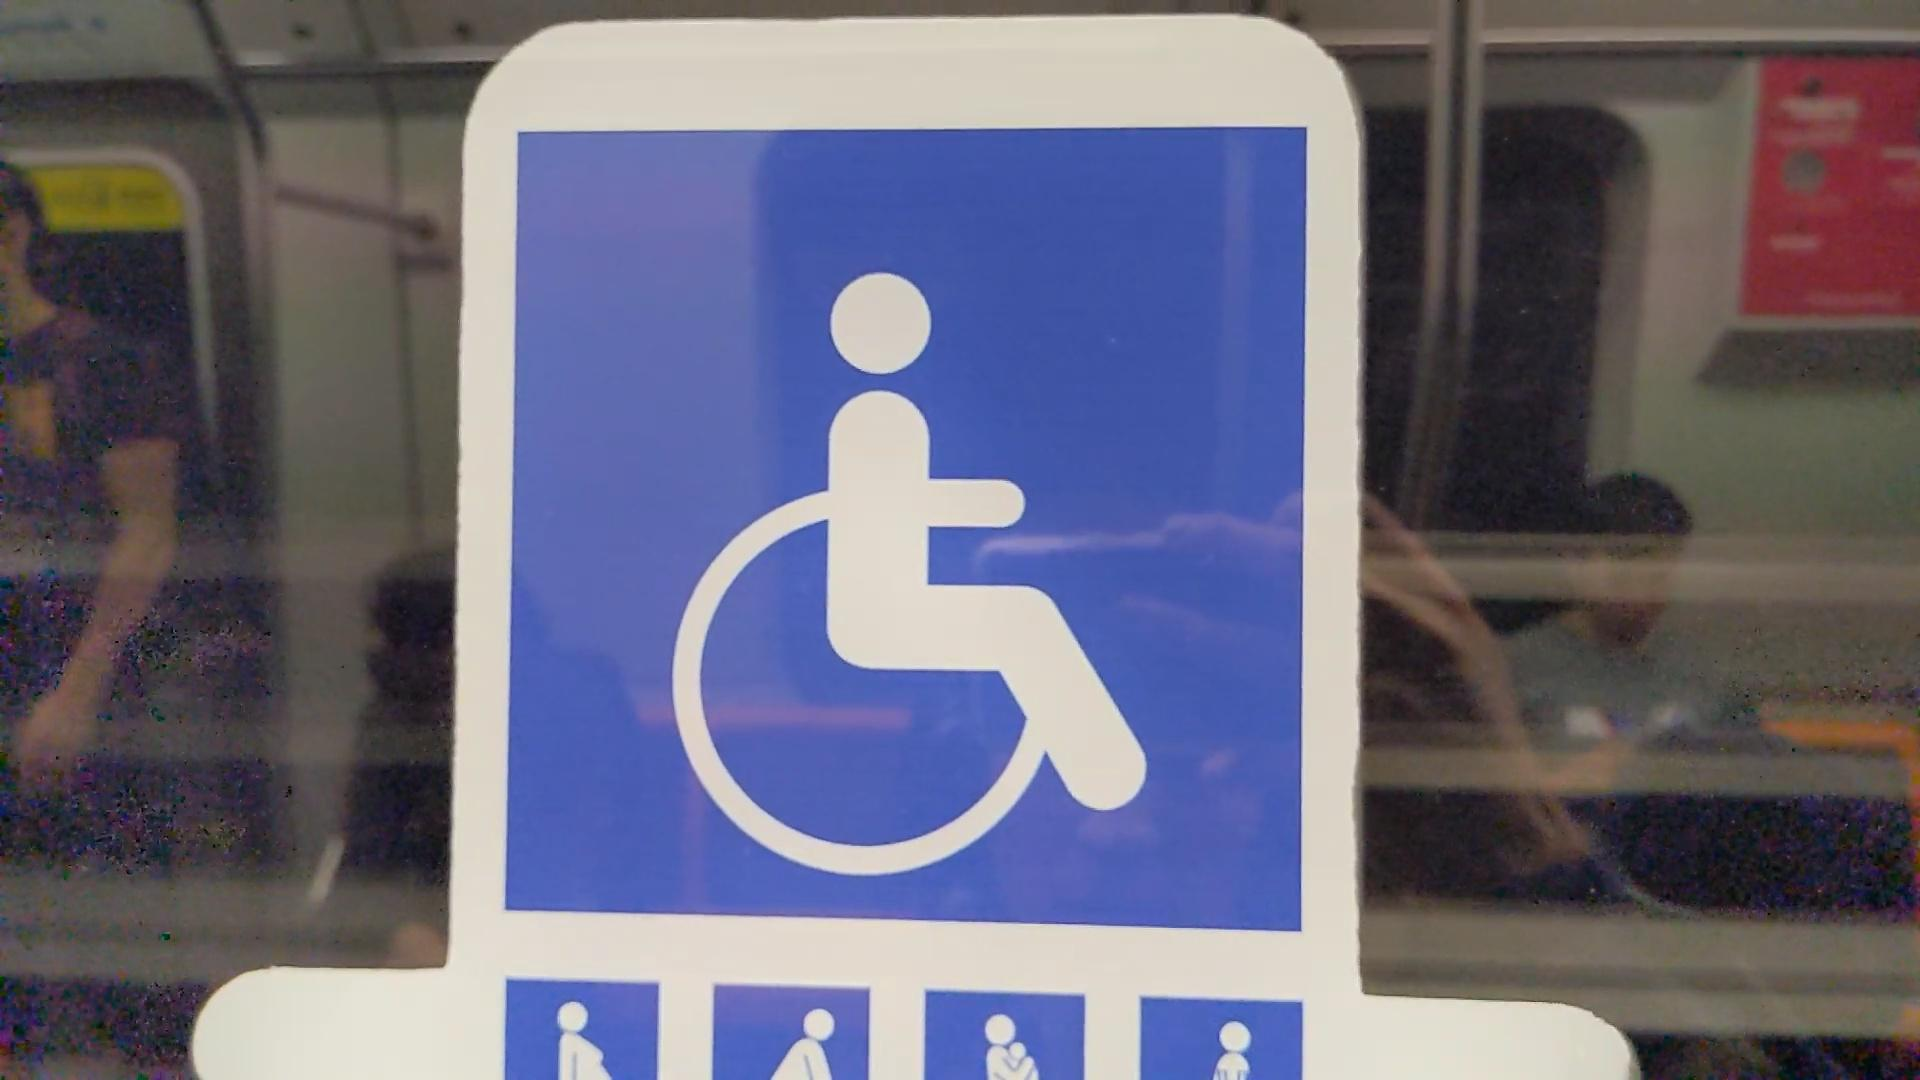handicapped symbol: (667, 261, 1156, 884)
